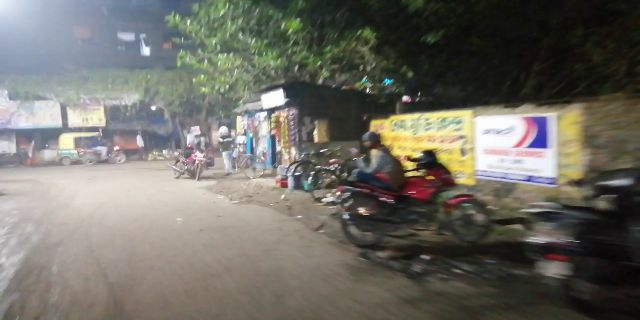Autorickshaw: (56, 130, 114, 165)
Motorbike: (329, 133, 495, 251)
